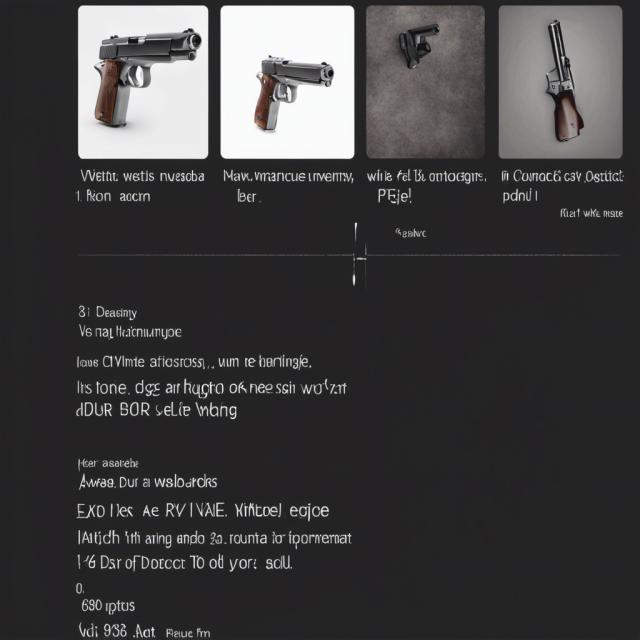gun: (87, 26, 201, 129), (250, 47, 343, 139), (538, 14, 591, 142)
